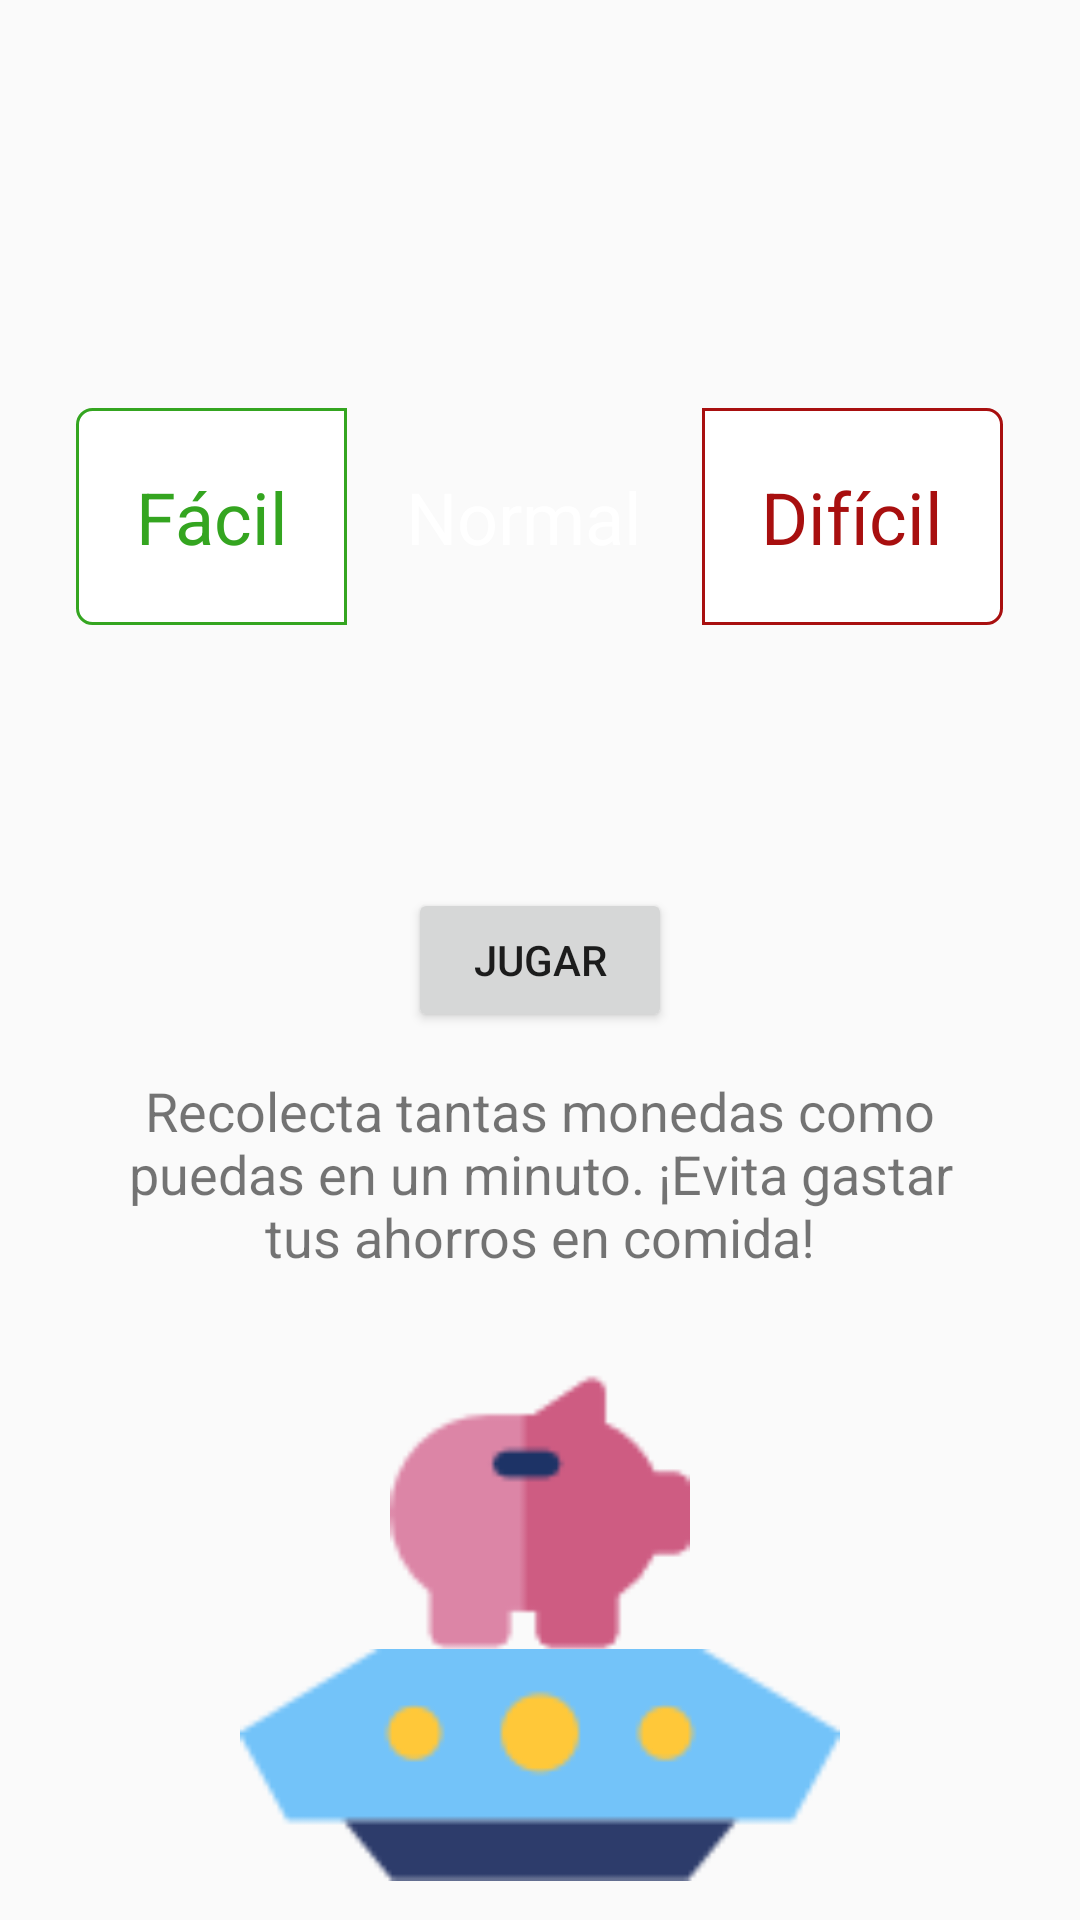

Named icons in this screenshot (1080px×1920px) and their centers, [x,y]:
Imagen cerdito: [540,1519]
